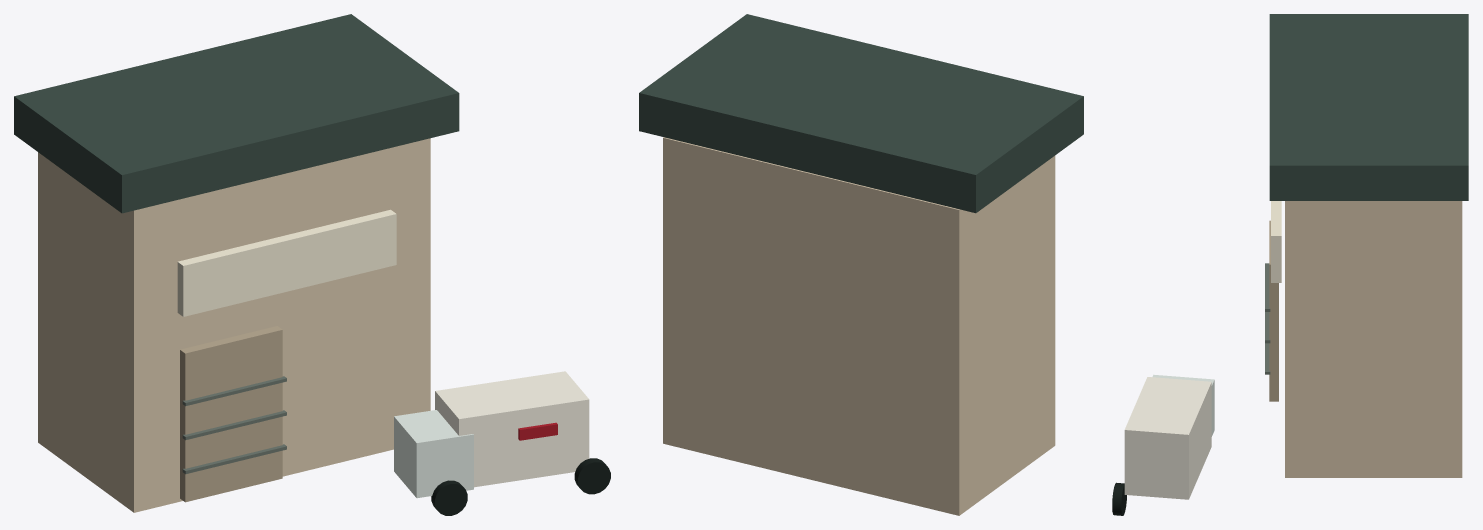
The model's file is depot_warehouse.glb.
3 views of the same model, side by side, from view 1: azimuth 30°, elevation 25°; view 2: azimuth 150°, elevation 25°; view 3: azimuth 270°, elevation 25° (orthographic). The views are drawn at different scales.
Visible parts, largest first — view 1: body, roof, shutter, sign, cargo, cab, wheel_0.42, wheel_-0.48; view 2: body, roof; view 3: body, roof, cargo, shutter, sign, wheel_0.42.
Part boxes in pixels (left/top/right/bottom): body: left=38, top=138, right=430, bottom=512; roof: left=14, top=14, right=459, bottom=213; shutter: left=180, top=326, right=282, bottom=502; sign: left=177, top=209, right=396, bottom=316; cargo: left=435, top=371, right=589, bottom=487; cab: left=394, top=410, right=473, bottom=498; wheel_0.42: left=574, top=458, right=610, bottom=494; wheel_-0.48: left=431, top=480, right=467, bottom=515; body: left=663, top=137, right=1055, bottom=515; roof: left=639, top=14, right=1083, bottom=213; body: left=1285, top=201, right=1462, bottom=477; roof: left=1269, top=14, right=1468, bottom=200; cargo: left=1124, top=377, right=1211, bottom=499; shutter: left=1269, top=220, right=1278, bottom=401; sign: left=1271, top=201, right=1281, bottom=282; wheel_0.42: left=1112, top=482, right=1126, bottom=515.
Bounding box in the file's own units: 1.99 × 1.66 × 1.65.
